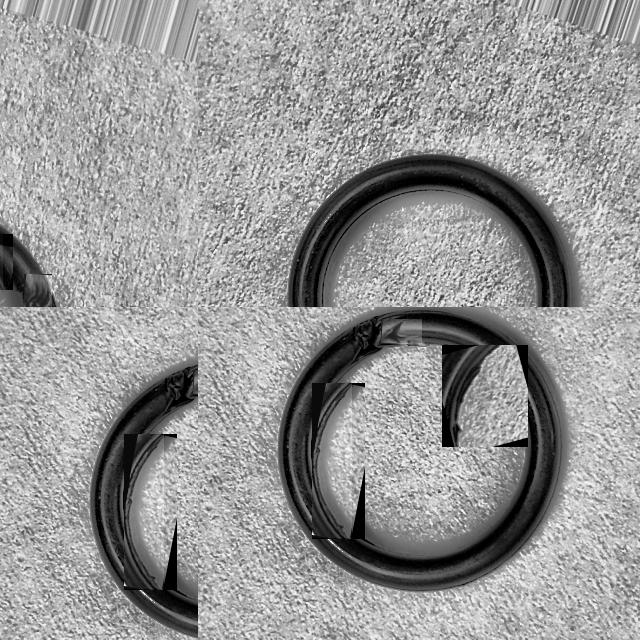切割缺陷: (338, 313, 402, 367), (150, 366, 198, 418), (381, 320, 422, 344), (25, 274, 52, 307)
裂纹: (124, 435, 164, 589), (312, 384, 352, 538), (452, 345, 501, 447), (408, 342, 428, 345)
